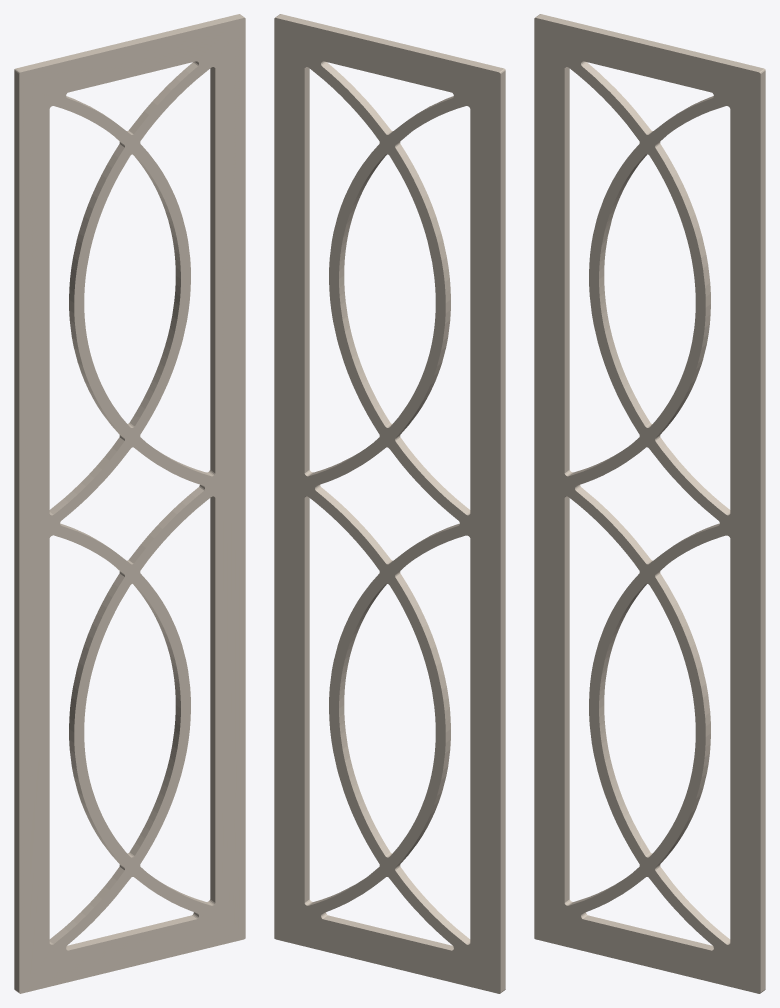
Rendered from nrd-cam-109.glb.
3 views of the same model, side by side, from view 1: azimuth 30°, elevation 25°; view 2: azimuth 150°, elevation 25°; view 3: azimuth 330°, elevation 25° (orthographic).
Visible parts, largest first — view 1: NRD CAM 109; view 2: NRD CAM 109; view 3: NRD CAM 109.
Part boxes in pixels (left/top/right/bottom): NRD CAM 109: left=14, top=14, right=245, bottom=993; NRD CAM 109: left=274, top=14, right=505, bottom=993; NRD CAM 109: left=534, top=14, right=765, bottom=993.
Size of the model in its own units: 0.4499 by 1.75 by 0.018.
